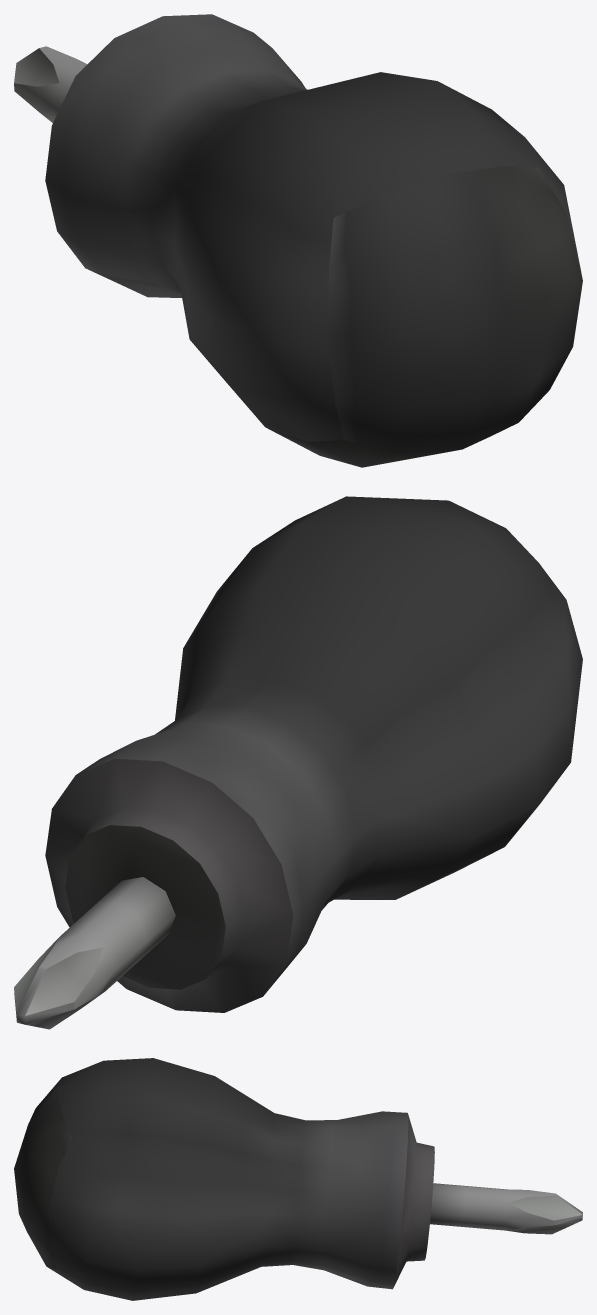
The model's file is SM_Screw_5_ab3f56.glb.
3 renders of one model, top to bottom at view 1: azimuth 30°, elevation 25°; view 2: azimuth 150°, elevation 25°; view 3: azimuth 270°, elevation 25°, orthographic. The views are drawn at different scales.
Size of the model in its own units: 0.0449 by 0.0447 by 0.1139.
1 material, 1 textured.
